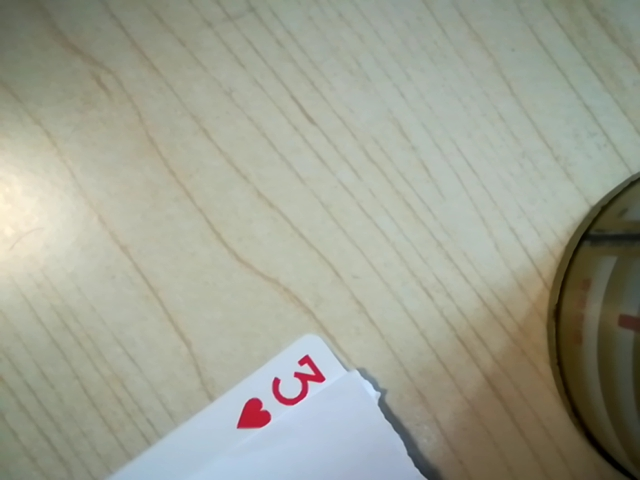hx 3: (228, 351, 335, 427)
